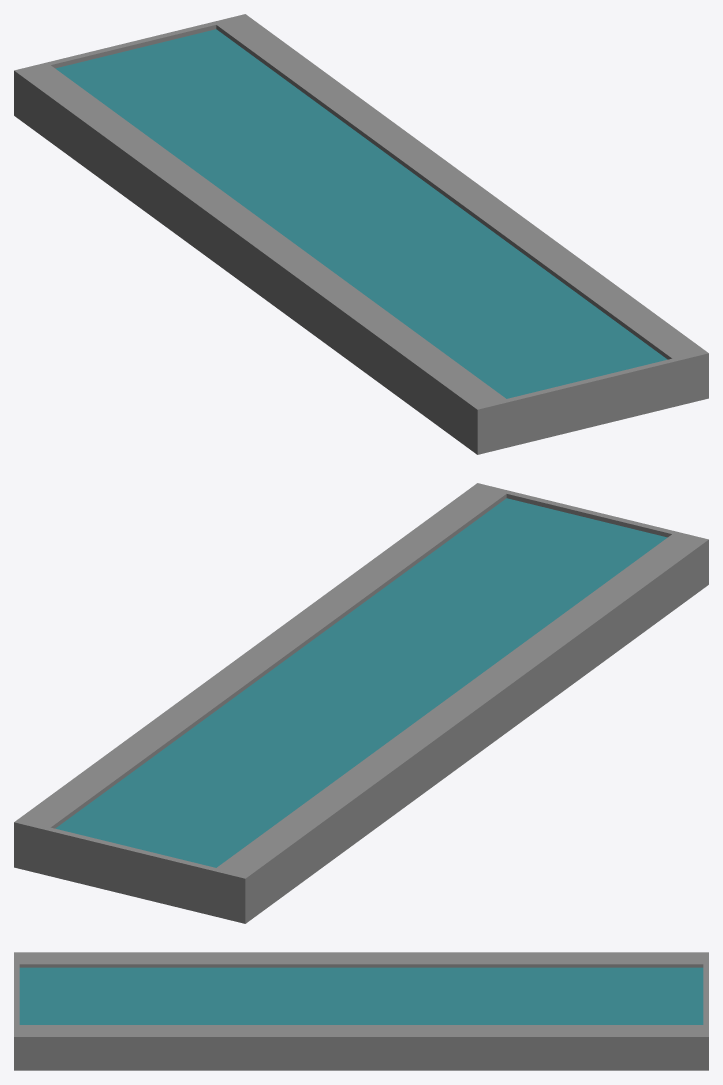
The model's file is sea.fbx.
3 renders of one model, top to bottom at view 1: azimuth 30°, elevation 25°; view 2: azimuth 150°, elevation 25°; view 3: azimuth 270°, elevation 25°, orthographic. The views are drawn at different scales.
Parts seen in each view (by area): view 1: water, Cube; view 2: water, Cube; view 3: Cube, water.
Boxes of the visible parts, left/top/right/bottom form: water: left=55, top=29, right=667, bottom=398; Cube: left=14, top=14, right=708, bottom=454; water: left=55, top=498, right=667, bottom=867; Cube: left=14, top=483, right=708, bottom=923; Cube: left=14, top=952, right=708, bottom=1070; water: left=19, top=967, right=703, bottom=1024.
Bounding box in the file's own units: 542 × 101 × 1880.
